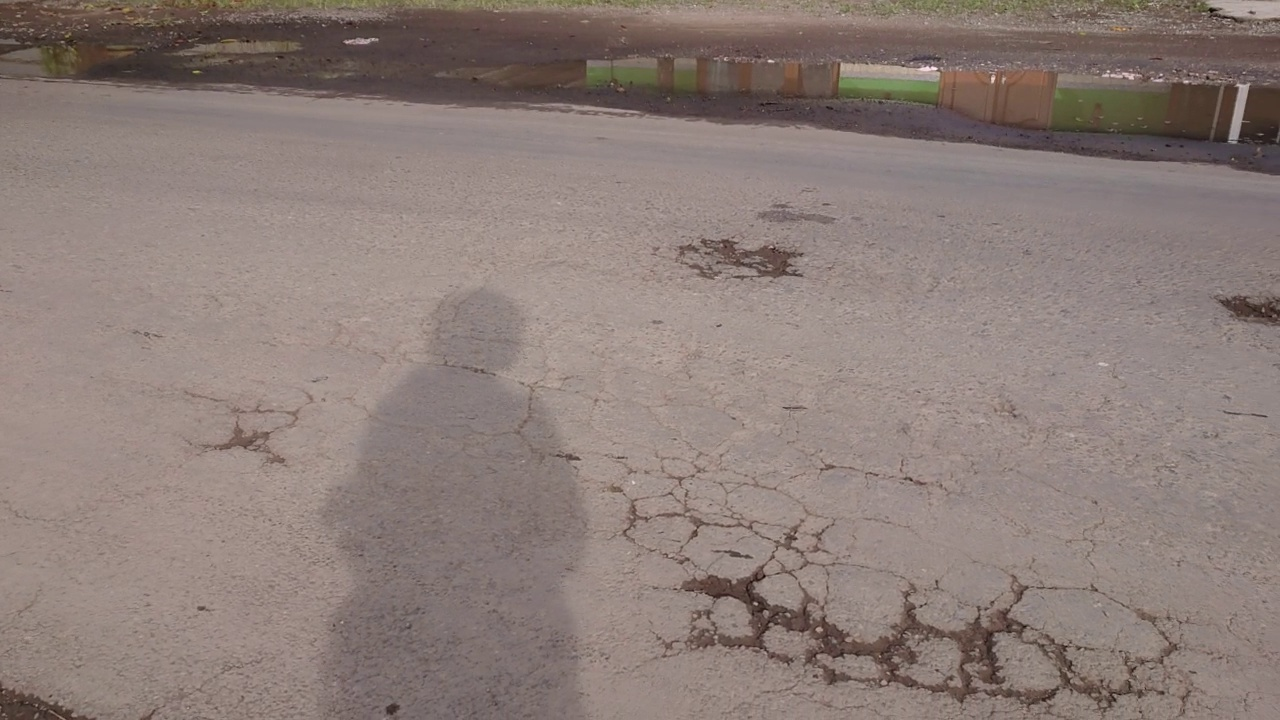Retak: (612, 451, 1162, 717), (685, 232, 804, 285), (214, 397, 290, 464)
